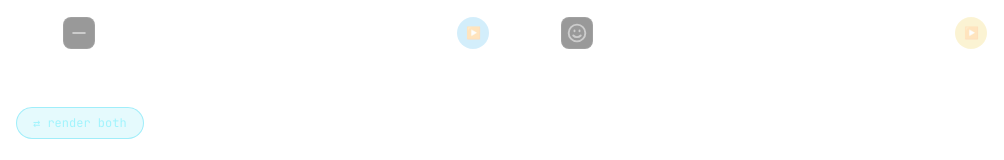
Test: EmotionAB › puts a failure on the side that earned it, in the backend's words
The width and height of the screenshot is (1004, 160).
Click the button "⇄ render both": click(80, 123) left=16, top=107, right=144, bottom=139
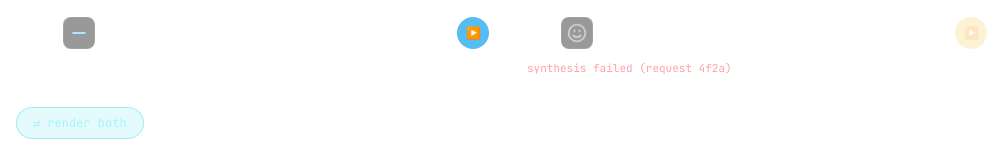
Now the text "synthesis failed (request 4f2a)" is shown, box left=527, top=61, right=732, bottom=75
Now the button named "play side A" is enabled, box left=457, top=17, right=489, bottom=49
